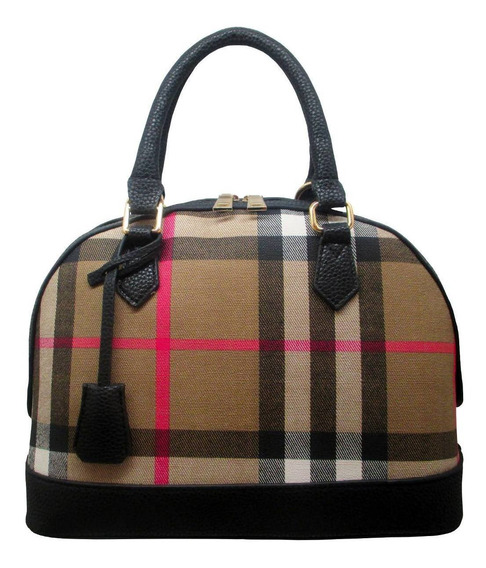cartera: (25, 25, 465, 539)
